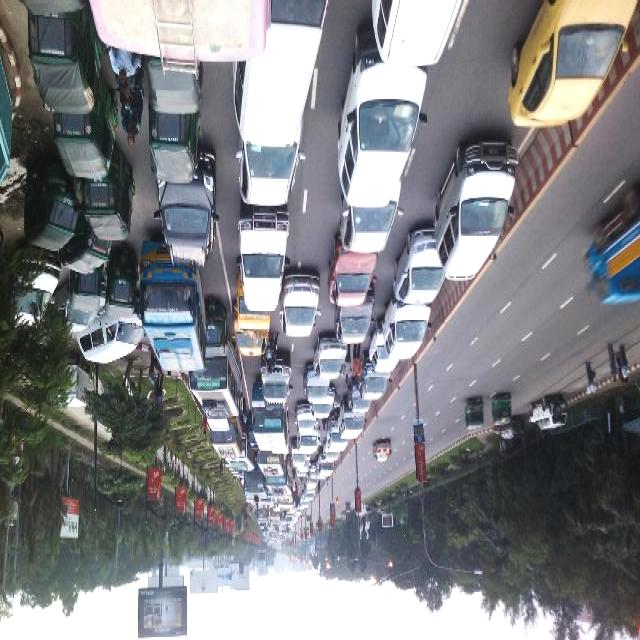black: (153, 150, 215, 270), (332, 286, 374, 347), (258, 354, 291, 405)
red: (327, 238, 378, 306)
silver: (392, 232, 446, 301), (280, 272, 318, 338)
white: (234, 0, 330, 146), (337, 38, 421, 204), (434, 129, 506, 278), (236, 119, 300, 209), (374, 0, 458, 64), (238, 215, 290, 305), (77, 304, 144, 365), (380, 290, 430, 359), (528, 398, 566, 430)
